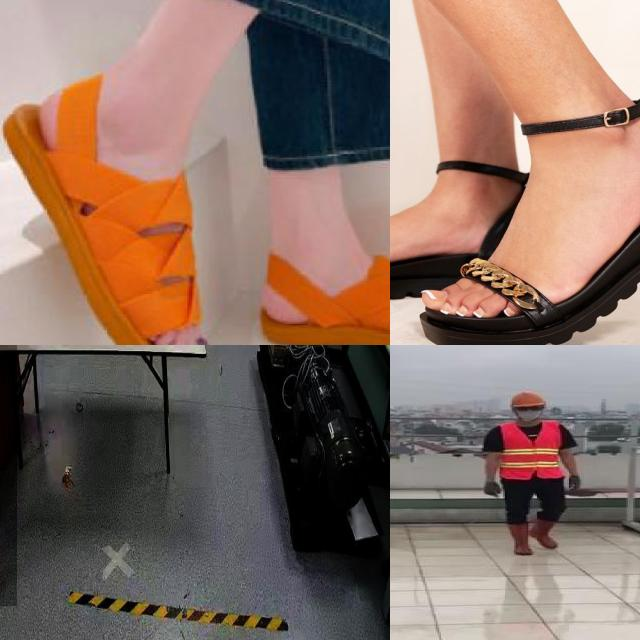Sandals: (0, 60, 220, 345), (419, 96, 640, 345), (244, 216, 390, 345)
boots: (484, 479, 504, 497), (568, 475, 586, 495)
head_helmet: (510, 389, 546, 407)
person: (479, 388, 587, 558)
vest: (500, 422, 560, 480)
